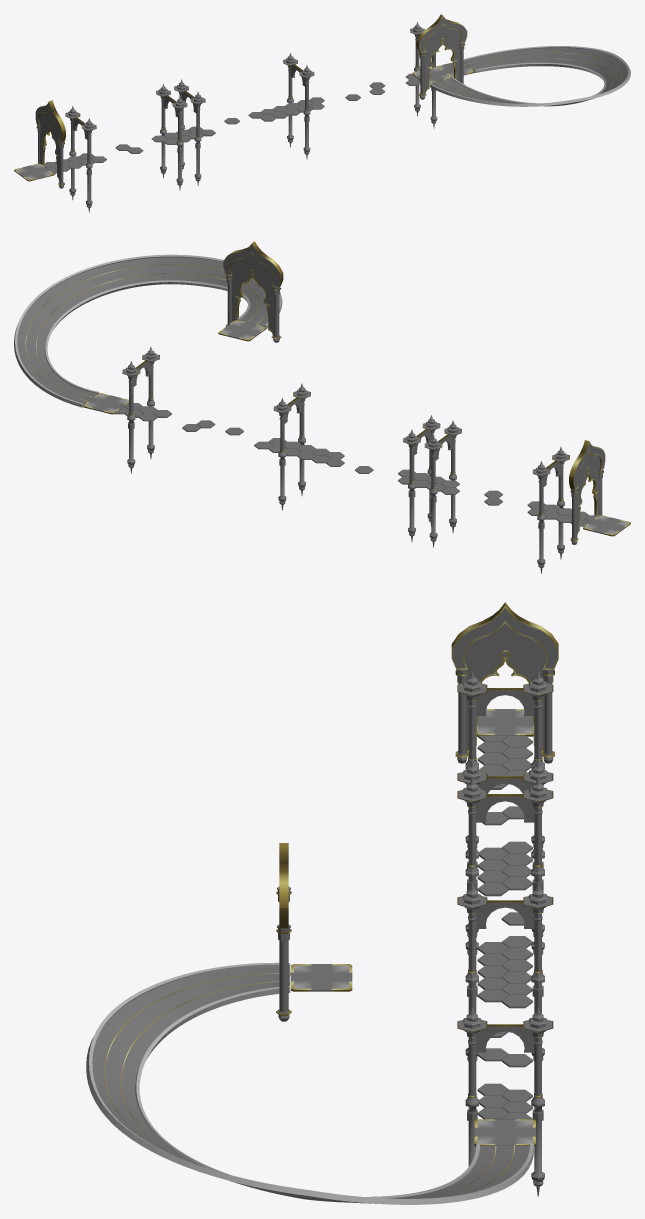
The model's file is NPSpaceBonus.gltf.
3 views of the same model, one above another, from view 1: azimuth 30°, elevation 25°; view 2: azimuth 150°, elevation 25°; view 3: azimuth 270°, elevation 25° (orthographic). The views are drawn at different scales.
Parts seen in each view (by area): view 1: stg071_k23_Mesh_0008, stg071_k23_Mesh_0000, stg071_k23_Mesh_0020, stg071_k23_Mesh_0018, stg071_o23_Mesh_0000, stg071_k23_Mesh_0001, stg071_k23_Mesh_0011, stg071_k23_Mesh_0016, stg071_k23_Mesh_0013, stg071_k23_Mesh_0030, stg071_k23_Mesh_0005, stg071_k23_Mesh_0026 (+2 smaller); view 2: stg071_k23_Mesh_0008, stg071_k23_Mesh_0018, stg071_k23_Mesh_0001, stg071_k23_Mesh_0000, stg071_o23_Mesh_0000, stg071_k23_Mesh_0020, stg071_k23_Mesh_0011, stg071_k23_Mesh_0013, stg071_k23_Mesh_0016, stg071_k23_Mesh_0005, stg071_k23_Mesh_0030, stg071_k23_Mesh_0026 (+2 smaller); view 3: stg071_k23_Mesh_0000, stg071_k23_Mesh_0018, stg071_k23_Mesh_0020, stg071_k23_Mesh_0001, stg071_o23_Mesh_0000, stg071_k23_Mesh_0008, stg071_k23_Mesh_0013, stg071_k23_Mesh_0005, stg071_k23_Mesh_0026, stg071_k23_Mesh_0016, stg071_k23_Mesh_0011, stg071_k23_Mesh_0032 (+2 smaller).
Boxes of the visible parts, x1=… form: stg071_k23_Mesh_0008: x1=37, y1=22, x2=463, y2=212; stg071_k23_Mesh_0000: x1=43, y1=73, x2=420, y2=174; stg071_k23_Mesh_0020: x1=18, y1=46, x2=630, y2=179; stg071_k23_Mesh_0018: x1=431, y1=48, x2=627, y2=103; stg071_o23_Mesh_0000: x1=14, y1=14, x2=621, y2=185; stg071_k23_Mesh_0001: x1=20, y1=53, x2=621, y2=177; stg071_k23_Mesh_0011: x1=35, y1=17, x2=466, y2=155; stg071_k23_Mesh_0016: x1=39, y1=24, x2=460, y2=138; stg071_k23_Mesh_0013: x1=37, y1=27, x2=464, y2=205; stg071_k23_Mesh_0030: x1=40, y1=37, x2=460, y2=180; stg071_k23_Mesh_0005: x1=72, y1=44, x2=435, y2=201; stg071_k23_Mesh_0026: x1=72, y1=34, x2=420, y2=139; stg071_k23_Mesh_0008: x1=123, y1=279, x2=602, y2=573; stg071_k23_Mesh_0018: x1=17, y1=257, x2=267, y2=404; stg071_k23_Mesh_0001: x1=26, y1=265, x2=623, y2=532; stg071_k23_Mesh_0000: x1=115, y1=403, x2=598, y2=526; stg071_o23_Mesh_0000: x1=25, y1=241, x2=630, y2=541; stg071_k23_Mesh_0020: x1=14, y1=254, x2=626, y2=534; stg071_k23_Mesh_0011: x1=224, y1=244, x2=604, y2=505; stg071_k23_Mesh_0013: x1=126, y1=275, x2=603, y2=564; stg071_k23_Mesh_0016: x1=231, y1=253, x2=600, y2=485; stg071_k23_Mesh_0005: x1=129, y1=370, x2=560, y2=552; stg071_k23_Mesh_0030: x1=231, y1=268, x2=599, y2=535; stg071_k23_Mesh_0026: x1=133, y1=361, x2=560, y2=486; stg071_k23_Mesh_0000: x1=477, y1=735, x2=532, y2=1119; stg071_k23_Mesh_0018: x1=92, y1=966, x2=529, y2=1198; stg071_k23_Mesh_0020: x1=86, y1=709, x2=535, y2=1204; stg071_k23_Mesh_0001: x1=105, y1=710, x2=532, y2=1198; stg071_o23_Mesh_0000: x1=105, y1=602, x2=558, y2=1198; stg071_k23_Mesh_0008: x1=277, y1=670, x2=553, y2=1182; stg071_k23_Mesh_0013: x1=277, y1=669, x2=554, y2=1182; stg071_k23_Mesh_0005: x1=465, y1=707, x2=544, y2=1095; stg071_k23_Mesh_0026: x1=476, y1=690, x2=534, y2=1052; stg071_k23_Mesh_0016: x1=464, y1=623, x2=545, y2=668; stg071_k23_Mesh_0011: x1=453, y1=608, x2=557, y2=699; stg071_k23_Mesh_0032: x1=277, y1=669, x2=552, y2=1033.
Bounding box in the file's own units: 321 × 88.8 × 121.
